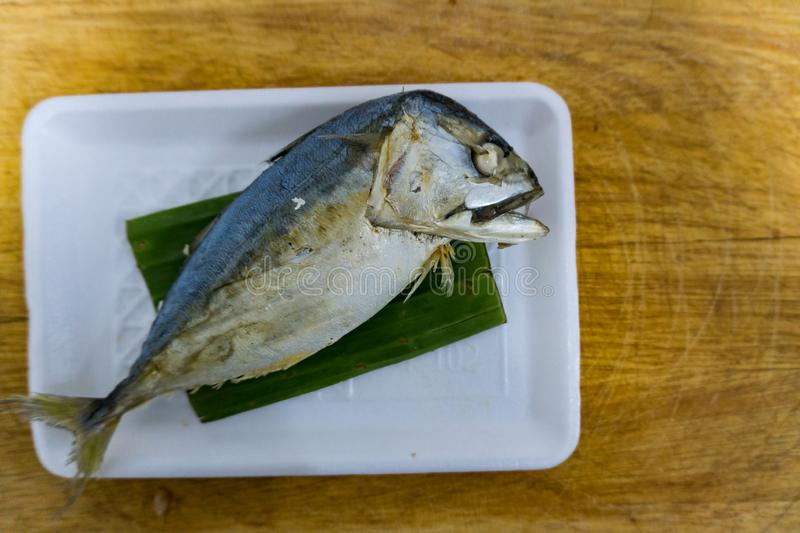Foam Box: (7, 77, 589, 504)
